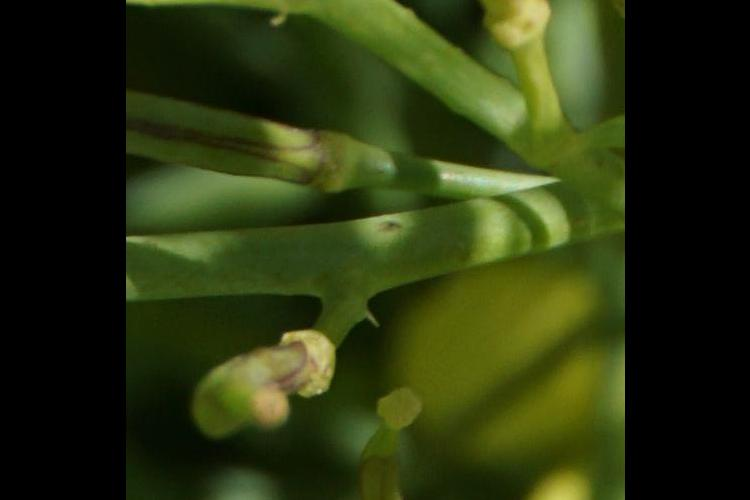pod: (132, 56, 343, 201), (200, 316, 339, 450), (343, 364, 443, 500), (448, 1, 553, 53)
